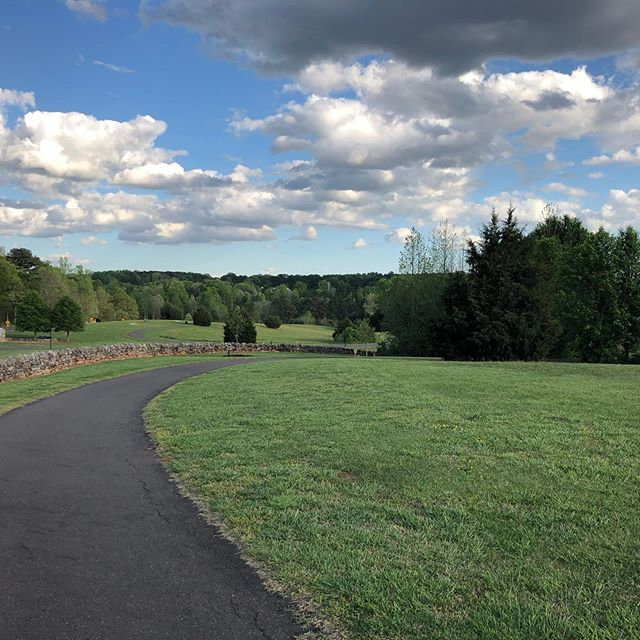grass: (201, 358, 640, 640)
road: (1, 357, 279, 640)
sky: (10, 1, 640, 242)
vegetation: (1, 249, 630, 356)
